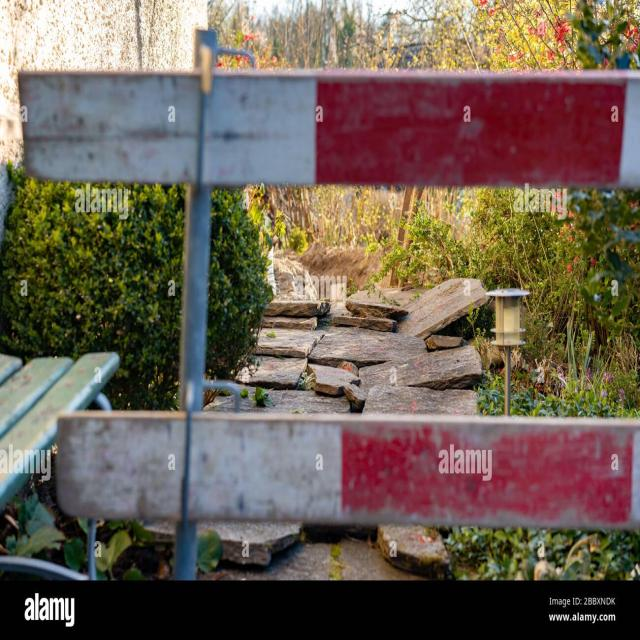cone: (14, 28, 638, 579)
